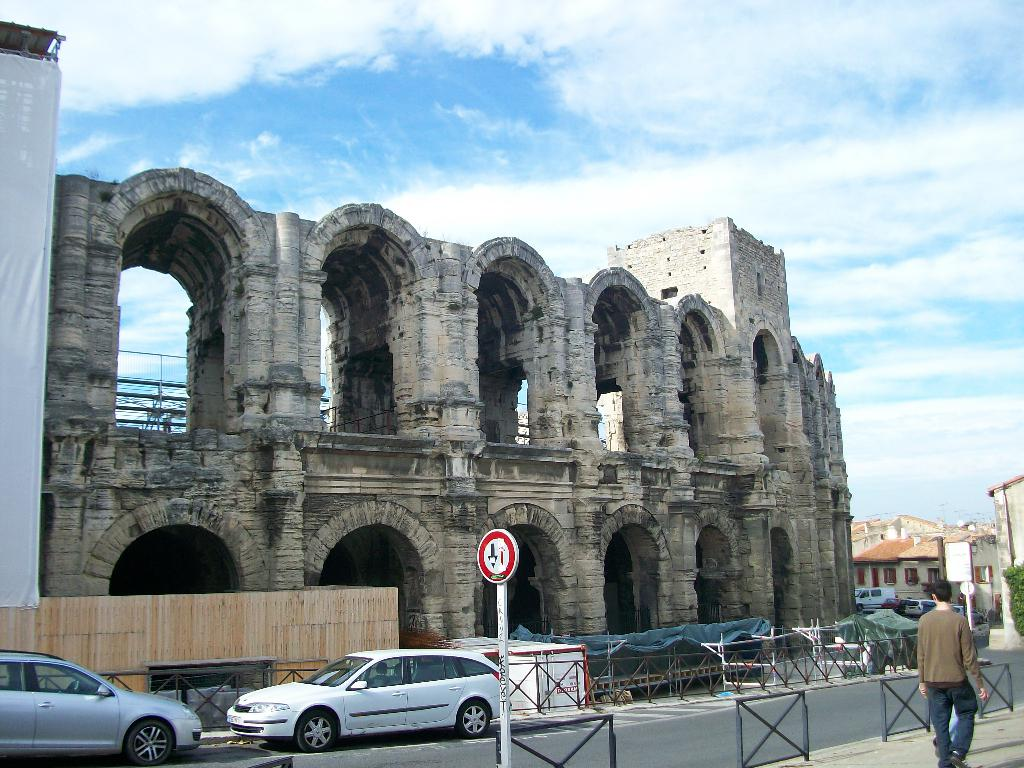cars: (226, 647, 505, 752), (0, 650, 200, 765)
